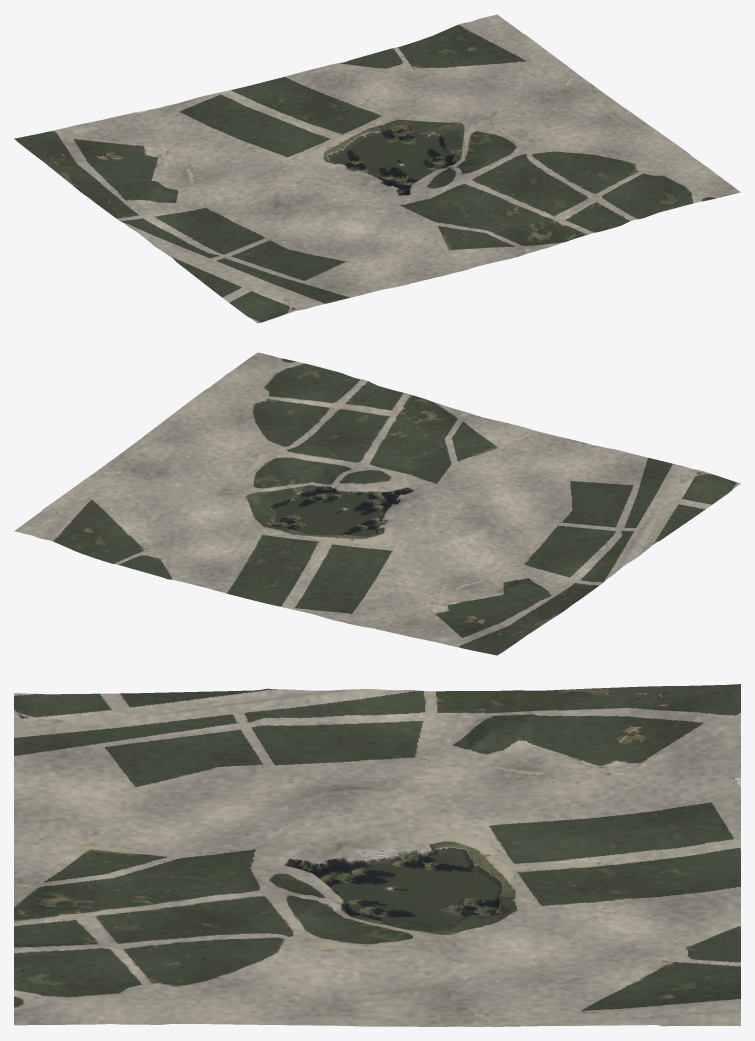
The model's file is terreno_cristal.glb.
The picture shows the model from 3 angles, top to bottom: view 1: azimuth 30°, elevation 25°; view 2: azimuth 150°, elevation 25°; view 3: azimuth 270°, elevation 25°; orthographic projection. The views are drawn at different scales.
Parts seen in each view (by area): view 1: Web_Terreno_Cristal; view 2: Web_Terreno_Cristal; view 3: Web_Terreno_Cristal.
Boxes of the visible parts, box(x1,y1,x2,y2) form: Web_Terreno_Cristal: box(14, 14, 740, 323); Web_Terreno_Cristal: box(14, 352, 740, 655); Web_Terreno_Cristal: box(14, 684, 740, 1026).
Bounding box in the file's own units: 309 × 10.73 × 270.
Materials: 4 (4 with a texture image).
